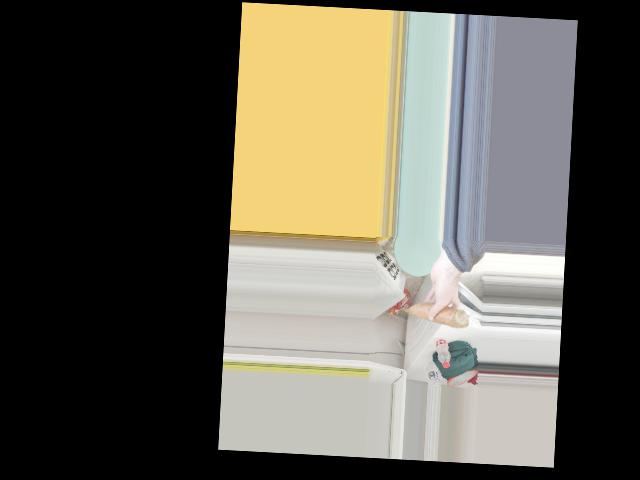sweet_potato: (405, 303, 470, 323)
